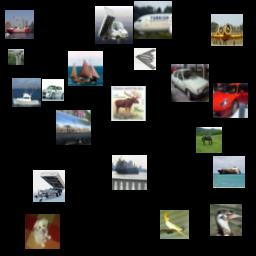airplane: (134, 1, 172, 39), (211, 14, 243, 46), (134, 48, 156, 70)
automobile: (171, 64, 209, 102), (213, 83, 248, 118), (42, 79, 64, 101)
bird: (210, 204, 242, 236), (160, 210, 189, 239), (8, 49, 24, 65)
deer: (111, 86, 146, 121)
dog: (25, 214, 60, 249)
ship: (112, 155, 147, 190), (68, 51, 103, 86), (213, 156, 245, 188), (5, 10, 34, 39), (12, 78, 41, 107)
truck: (95, 6, 133, 44), (56, 110, 91, 145), (33, 170, 65, 202)
